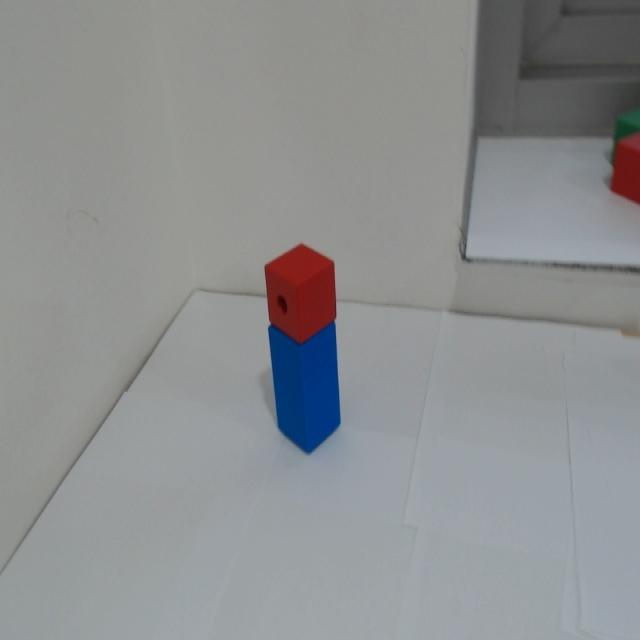cube: (249, 251, 362, 342)
